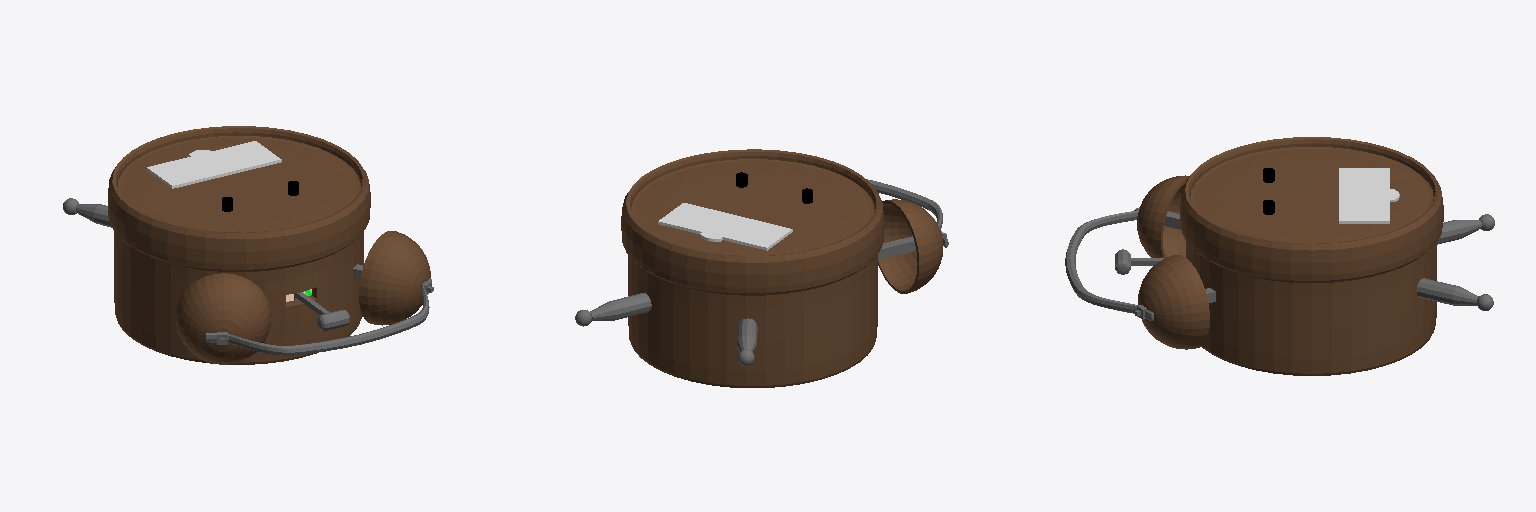
3 views of the same model, side by side, from view 1: azimuth 30°, elevation 25°; view 2: azimuth 150°, elevation 25°; view 3: azimuth 270°, elevation 25° (orthographic).
Visible parts, largest first — view 1: Object, Sphere.001, Sphere, Object.001, Cube.002, Cube.003, Cylinder.002; view 2: Object, Sphere.001, Object.001, Cylinder.001, Cube.002, Cylinder.002, Cube; view 3: Object, Sphere, Object.001, Sphere.001, Cube.002, Cylinder.001, Cylinder.002, Cube.003.
Boxes of the visible parts, x1=… form: Object: x1=108, y1=126, x2=370, y2=364; Sphere.001: x1=175, y1=273, x2=271, y2=364; Sphere: x1=359, y1=231, x2=430, y2=325; Object.001: x1=147, y1=141, x2=281, y2=188; Cube.002: x1=205, y1=278, x2=431, y2=355; Cube.003: x1=294, y1=292, x2=349, y2=330; Cylinder.002: x1=63, y1=198, x2=111, y2=227; Object: x1=621, y1=149, x2=883, y2=387; Sphere.001: x1=878, y1=199, x2=942, y2=293; Object.001: x1=658, y1=203, x2=792, y2=250; Cylinder.001: x1=575, y1=293, x2=651, y2=326; Cube.002: x1=867, y1=179, x2=948, y2=247; Cylinder.002: x1=737, y1=318, x2=757, y2=365; Cube: x1=878, y1=231, x2=946, y2=259; Object: x1=1180, y1=137, x2=1443, y2=375; Sphere: x1=1138, y1=255, x2=1209, y2=349; Object.001: x1=1339, y1=168, x2=1399, y2=223; Sphere.001: x1=1137, y1=175, x2=1188, y2=257; Cube.002: x1=1065, y1=210, x2=1153, y2=320; Cylinder.001: x1=1416, y1=278, x2=1493, y2=310; Cylinder.002: x1=1437, y1=214, x2=1494, y2=244; Cube.003: x1=1115, y1=249, x2=1164, y2=274.
Size of the model in its own units: 2.2 by 1.2 by 3.38.
6 materials, 5 textured.